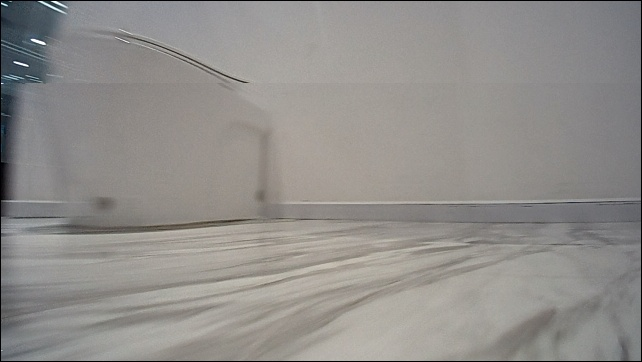toilet: (51, 26, 270, 230)
